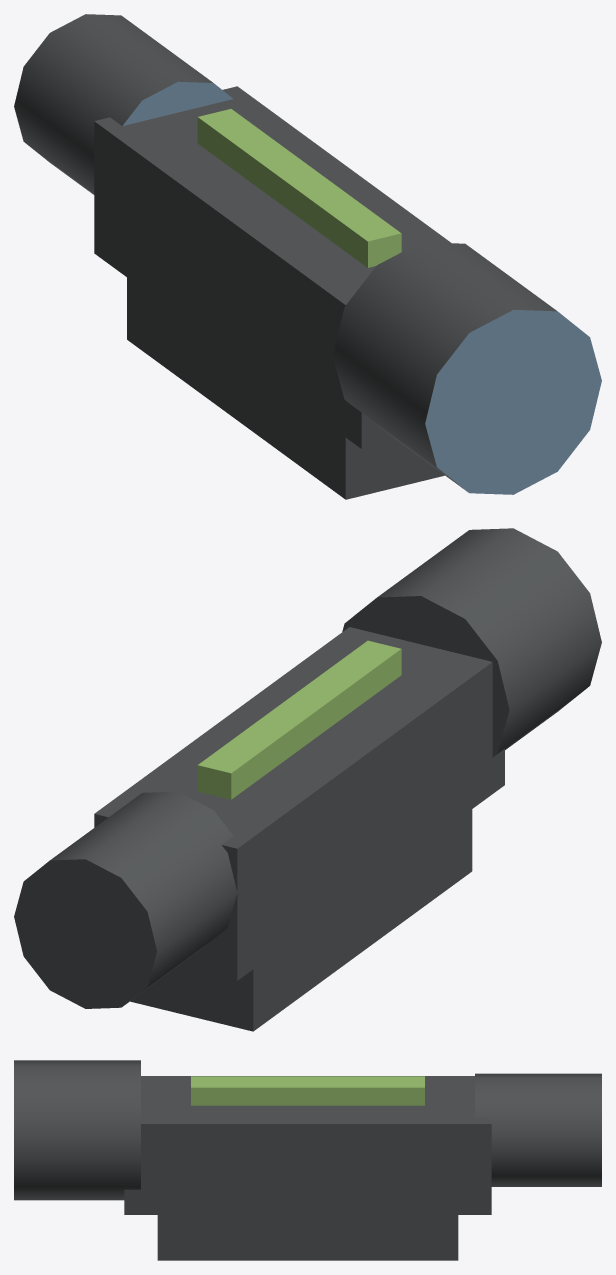
The model's file is scope_4x.glb.
3 renders of one model, top to bottom at view 1: azimuth 30°, elevation 25°; view 2: azimuth 150°, elevation 25°; view 3: azimuth 270°, elevation 25°, orthographic. The views are drawn at different scales.
Visible parts, largest first — view 1: scope_4x; view 2: scope_4x; view 3: scope_4x.
Part boxes in pixels (<box>): scope_4x: <box>14,14,601,499</box>; scope_4x: <box>14,528,601,1031</box>; scope_4x: <box>14,1060,601,1260</box>.
Size of the model in its own units: 0.042 by 0.057 by 0.176.
